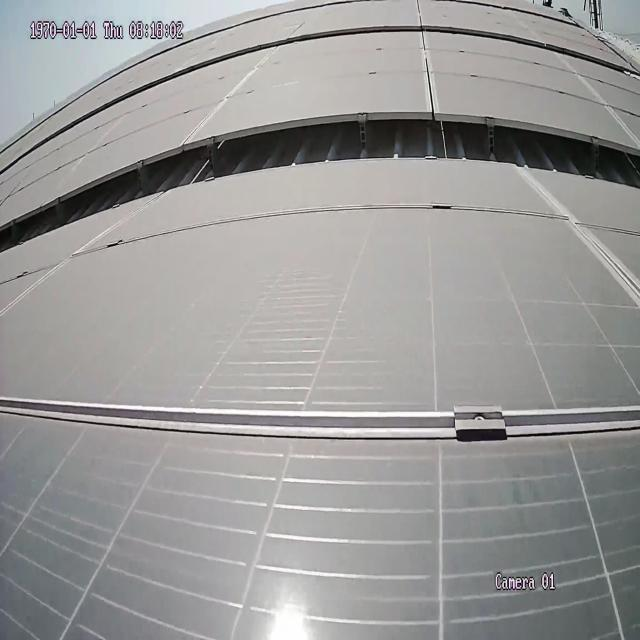interior panel: (8, 24, 624, 170), (0, 398, 639, 445), (517, 170, 640, 294)
outher panel: (1, 108, 640, 250)
